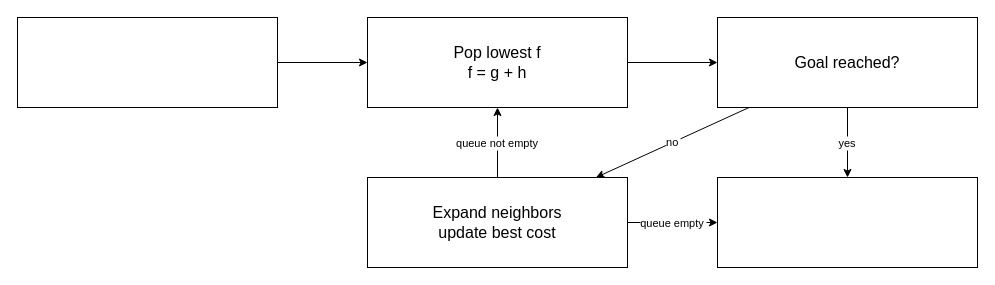
Image size: 995x285. Some labels were removed from this diagram. Here are the shapes that lost their labels. From the top down, the centre of each, then its label:
point (147, 62): Start A priority queue
point (847, 222): Return path and cost or report no path
